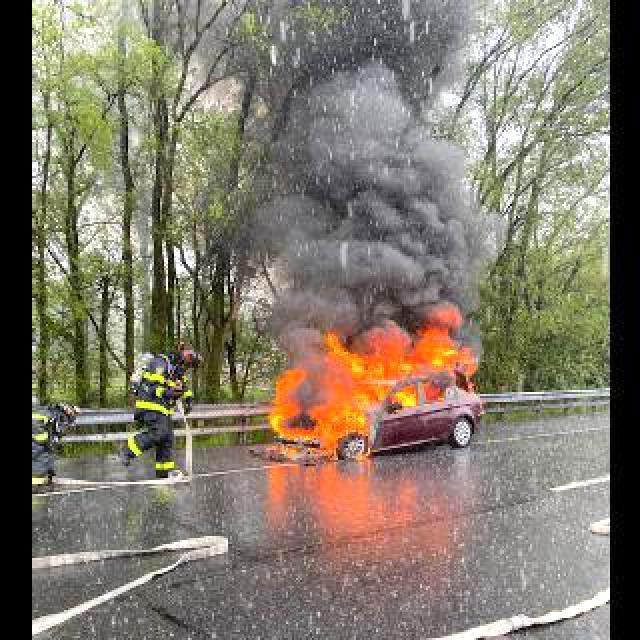Fire: (263, 322, 469, 450)
Smoke: (232, 61, 505, 349)
